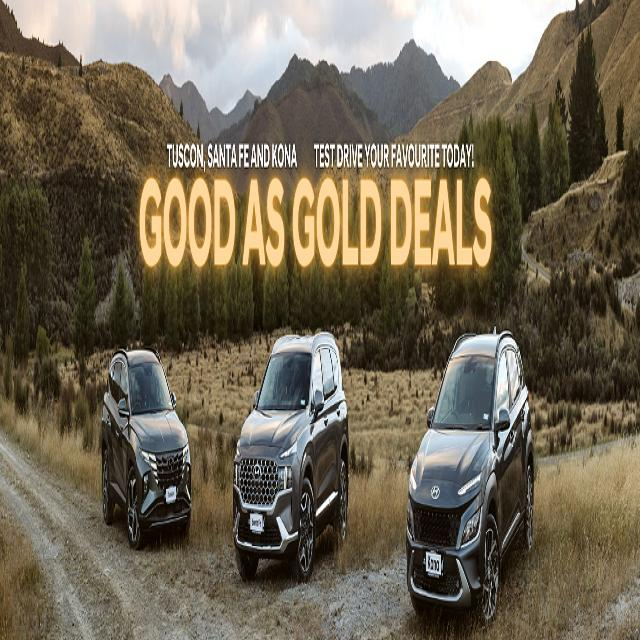car: (400, 300, 535, 622), (230, 296, 350, 585), (100, 324, 191, 555)
